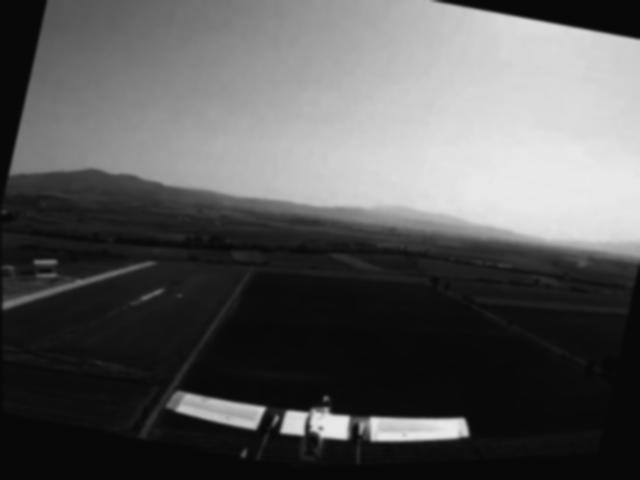hedef: (149, 333, 481, 475)
